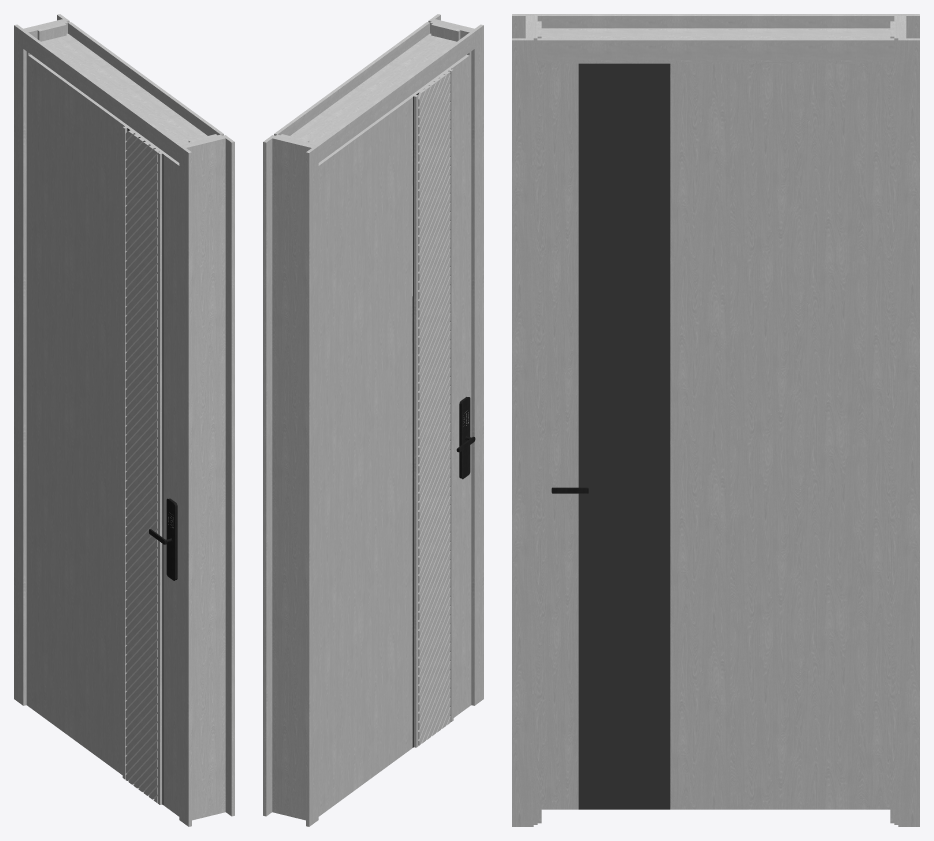
Rendered from DOOR2.gltf.
3 views of the same model, side by side, from view 1: azimuth 30°, elevation 25°; view 2: azimuth 150°, elevation 25°; view 3: azimuth 270°, elevation 25° (orthographic). The views are drawn at different scales.
Parts seen in each view (by area): view 1: root, Mesh_80, Mesh_82, Mesh_81, Mesh_0, Mesh_79, Mesh_1, archibd _ Door lock _ P _ 2; view 2: root, Mesh_82, Mesh_80, Mesh_81, Mesh_79, Mesh_0, Mesh_1, archibd _ Door lock _ P _ 2; view 3: root, Mesh_1, Mesh_80, Mesh_82, Mesh_81.
Boxes of the visible parts, x1,y1,x2,y2 form: root: [28, 54, 179, 816]; Mesh_80: [179, 134, 234, 826]; Mesh_82: [14, 14, 69, 705]; Mesh_81: [23, 22, 223, 162]; Mesh_0: [157, 152, 162, 804]; Mesh_79: [122, 126, 127, 779]; Mesh_1: [124, 125, 165, 804]; archibd _ Door lock _ P _ 2: [166, 498, 175, 580]; root: [318, 54, 469, 816]; Mesh_82: [263, 134, 318, 826]; Mesh_80: [428, 14, 483, 705]; Mesh_81: [274, 22, 474, 162]; Mesh_79: [414, 95, 418, 747]; Mesh_0: [449, 69, 453, 721]; Mesh_1: [410, 67, 451, 747]; archibd _ Door lock _ P _ 2: [461, 397, 470, 479]; root: [541, 63, 890, 809]; Mesh_1: [578, 63, 670, 809]; Mesh_80: [512, 14, 541, 826]; Mesh_82: [890, 14, 919, 826]; Mesh_81: [533, 14, 898, 63].
Bounding box in the file's own units: 0.217 × 2.6 × 1.22.
